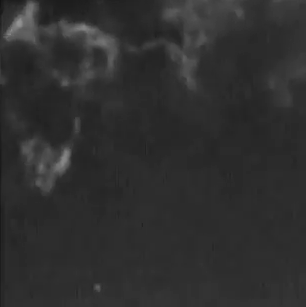Target: (95, 284, 101, 291)
